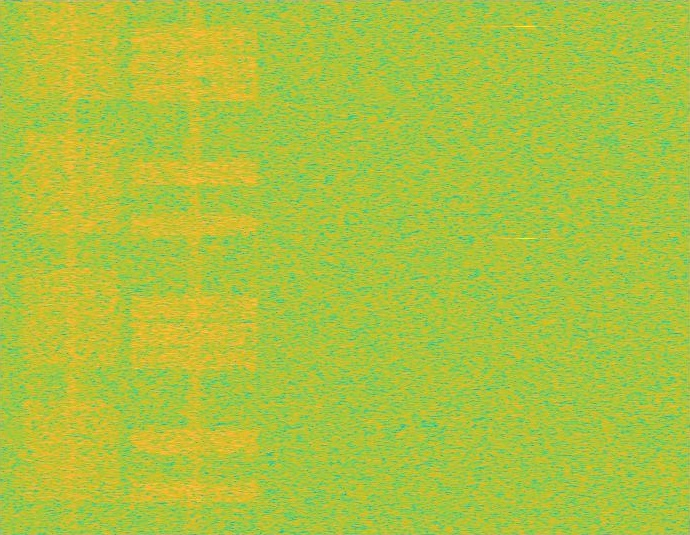5G: (20, 0, 123, 534)
DSSS: (185, 0, 204, 534), (65, 0, 79, 534)
LTE: (125, 0, 263, 534)
Radar: (519, 0, 533, 534)
